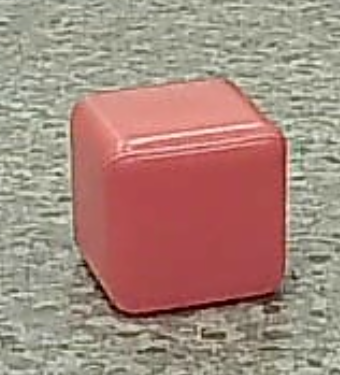orange_cube: (64, 78, 295, 322)
